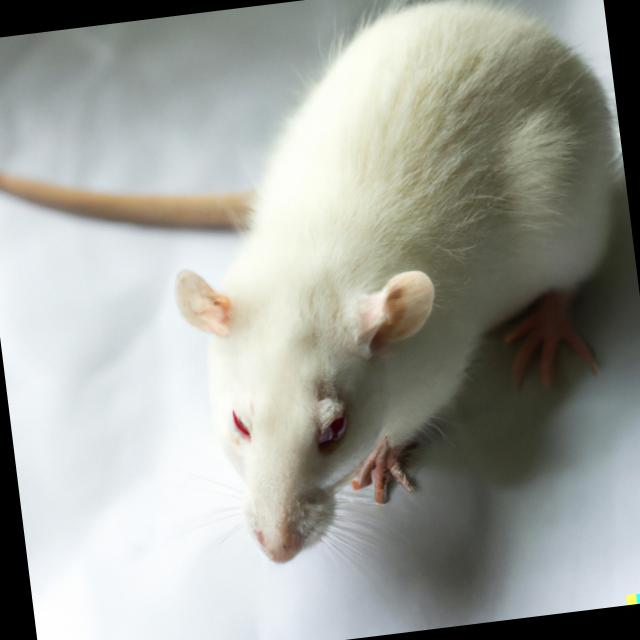rodents: (122, 0, 640, 578)
